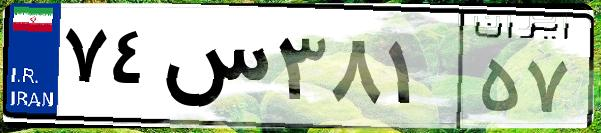1: (385, 28, 445, 110)
3: (270, 28, 330, 110)
4: (110, 28, 158, 98)
5: (475, 38, 525, 113)
7: (57, 26, 110, 100), (525, 38, 570, 115)
8: (330, 28, 385, 110)
س: (158, 20, 270, 120)
